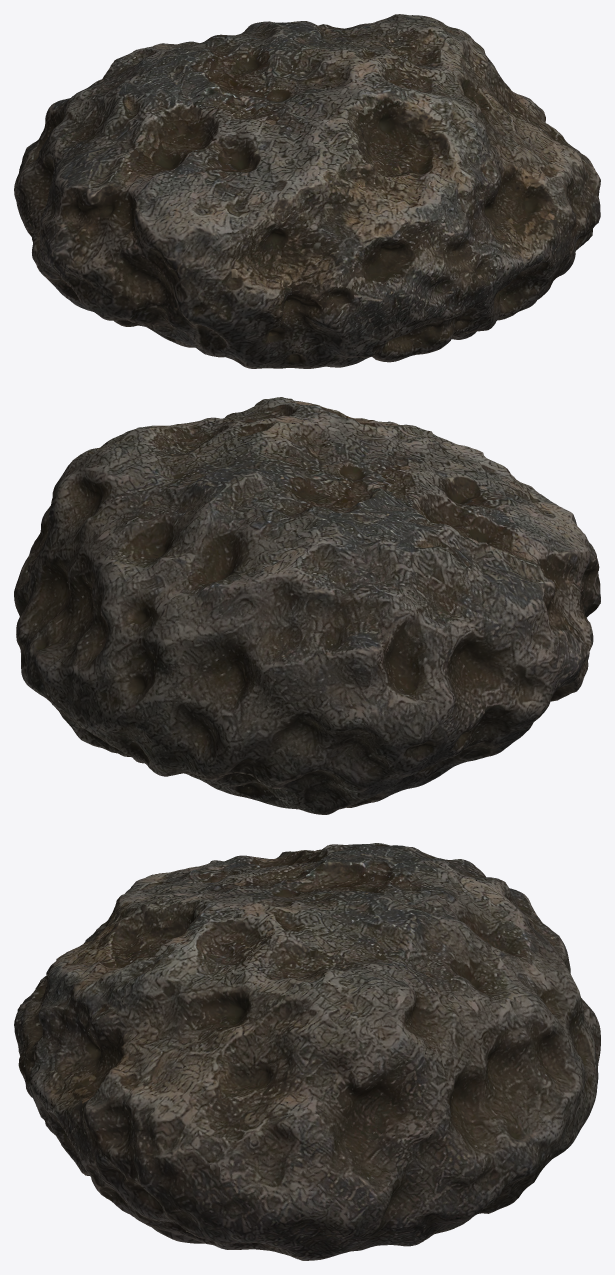
Rendered from asteroid_common_3.glb.
3 renders of one model, top to bottom at view 1: azimuth 30°, elevation 25°; view 2: azimuth 150°, elevation 25°; view 3: azimuth 270°, elevation 25°, orthographic. The views are drawn at different scales.
Parts seen in each view (by area): view 1: model; view 2: model; view 3: model.
Boxes of the visible parts, bbox=[...] form: model: bbox=[14, 14, 600, 368]; model: bbox=[14, 397, 600, 814]; model: bbox=[14, 843, 600, 1260].
Bounding box in the file's own units: 1.9 × 0.9781 × 1.7.
1 material, 1 textured.
